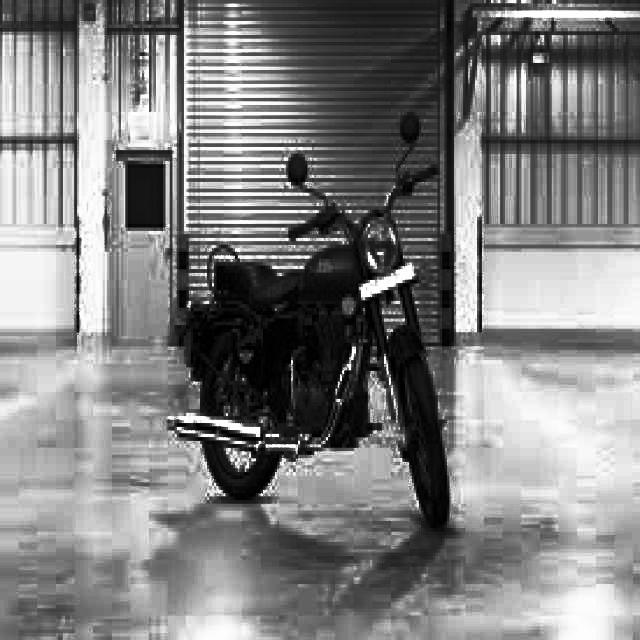Bike: (176, 163, 473, 533)
